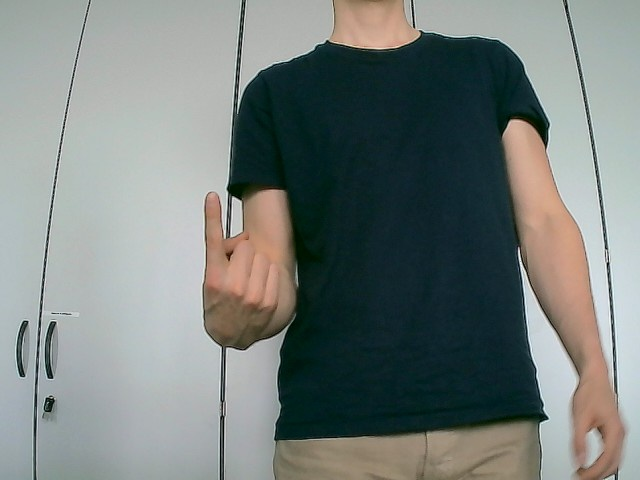no_gesture: (563, 379, 638, 480)
up: (200, 190, 298, 351)
